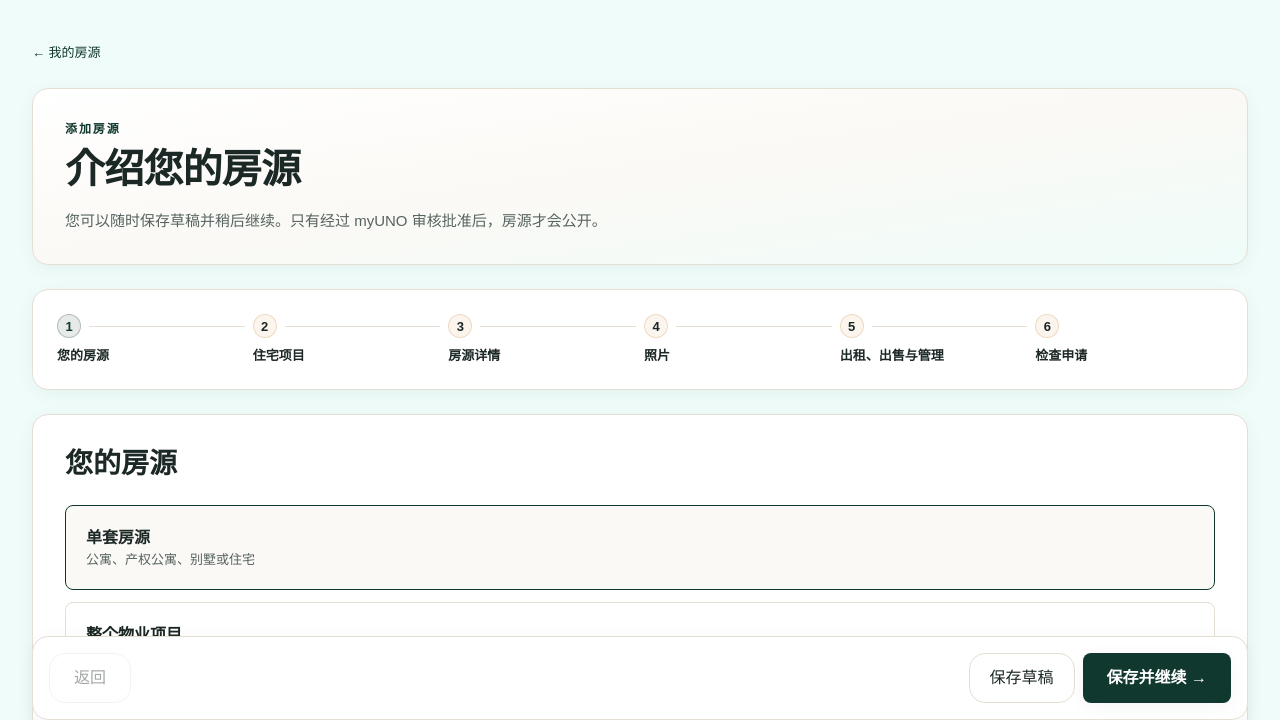
Test case: bounded onboarding UI locale without workflow changes › renders shell, steps and preserves draft request in zh
expect the heading "介绍您的房源" is shown: met, box top-left (65, 147), bottom-right (300, 191)
expect the list named "房源申请步骤" is shown: met, box top-left (57, 314), bottom-right (1223, 365)
Click the button "保存并继续 →": click(1157, 678) top-left (1082, 653), bottom-right (1231, 703)
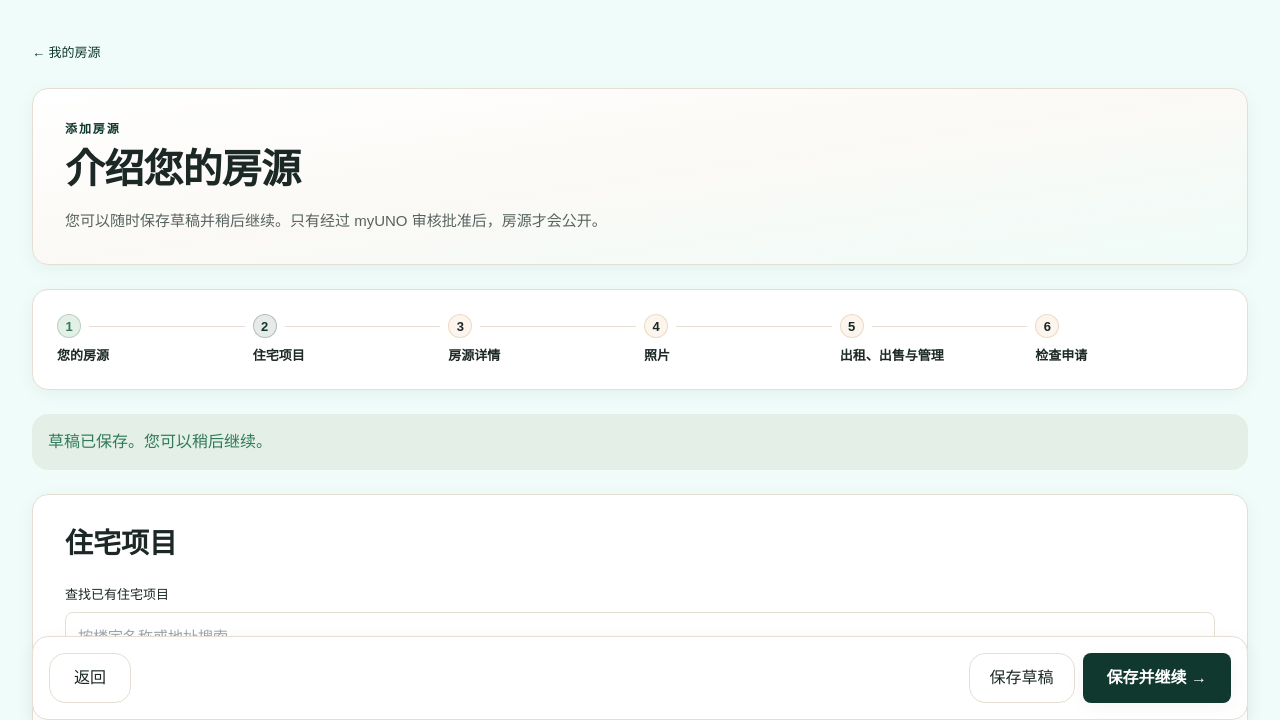
expect the heading "住宅项目" is shown: met, box top-left (65, 528), bottom-right (177, 559)
